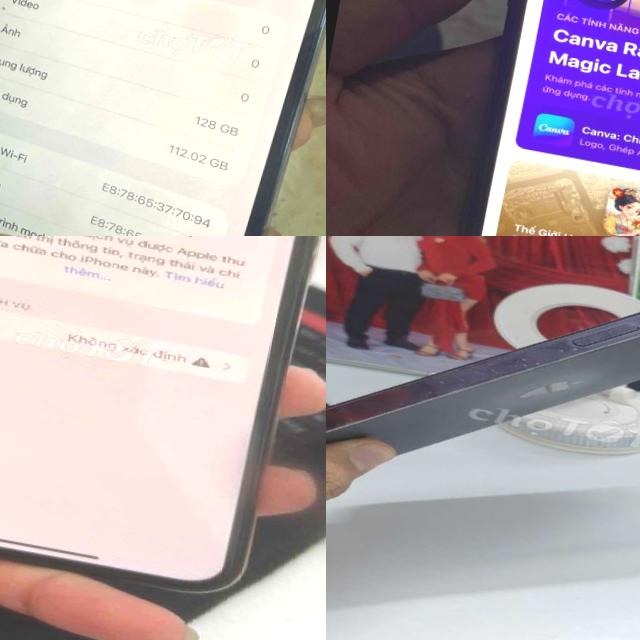gen_12_13: (0, 0, 326, 236)
gen_14: (326, 236, 640, 554)
gen_x_xs: (0, 236, 326, 627), (450, 0, 640, 236)
scratch: (464, 317, 596, 408), (369, 362, 459, 428), (594, 259, 640, 363)
